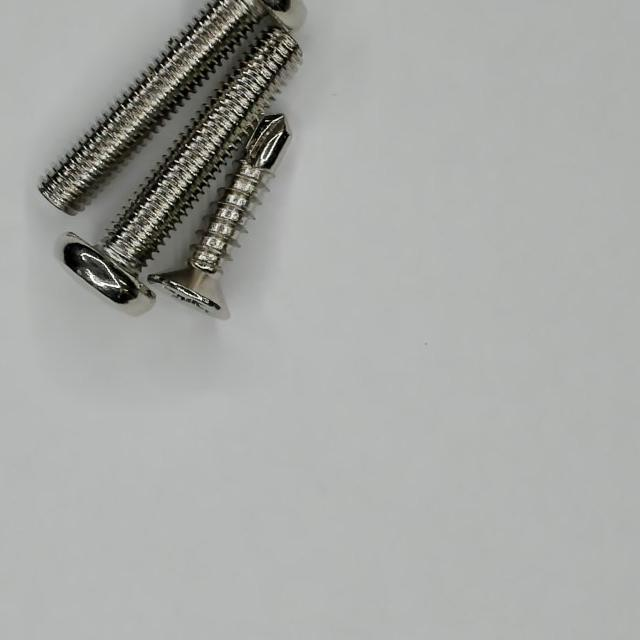Screw: (63, 26, 300, 304), (40, 0, 273, 214), (147, 113, 290, 320)
